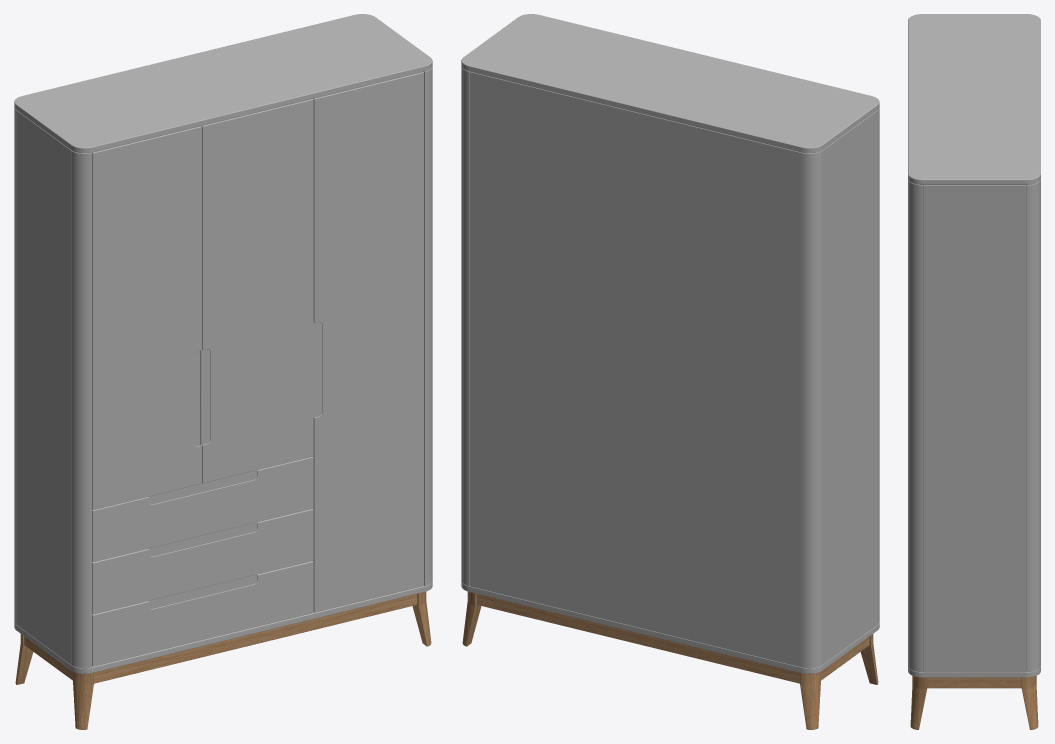
The model's file is self-high.glb.
The picture shows the model from 3 angles, left to right: view 1: azimuth 30°, elevation 25°; view 2: azimuth 150°, elevation 25°; view 3: azimuth 270°, elevation 25°; orthographic projection. The views are drawn at different scales.
Visible parts, largest first — view 1: Roupeiro Boom 3 Portas Reller-mesh (×2); view 2: Roupeiro Boom 3 Portas Reller-mesh (×2); view 3: Roupeiro Boom 3 Portas Reller-mesh (×2).
Part boxes in pixels (left/top/right/bottom): Roupeiro Boom 3 Portas Reller-mesh (×2): left=14, top=14, right=432, bottom=729; Roupeiro Boom 3 Portas Reller-mesh (×2): left=461, top=14, right=879, bottom=729; Roupeiro Boom 3 Portas Reller-mesh (×2): left=908, top=14, right=1040, bottom=729.
Size of the model in its own units: 1.18 by 1.82 by 0.3978.
Materials: 2 (1 with a texture image).
